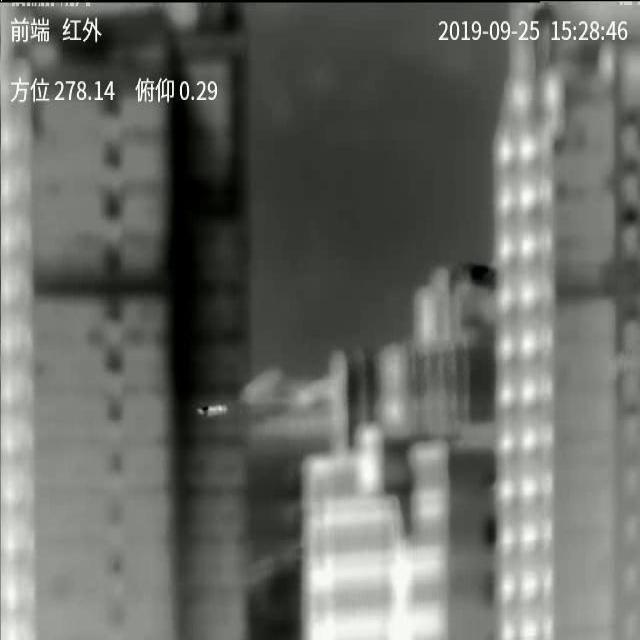drone: (197, 405, 228, 417)
